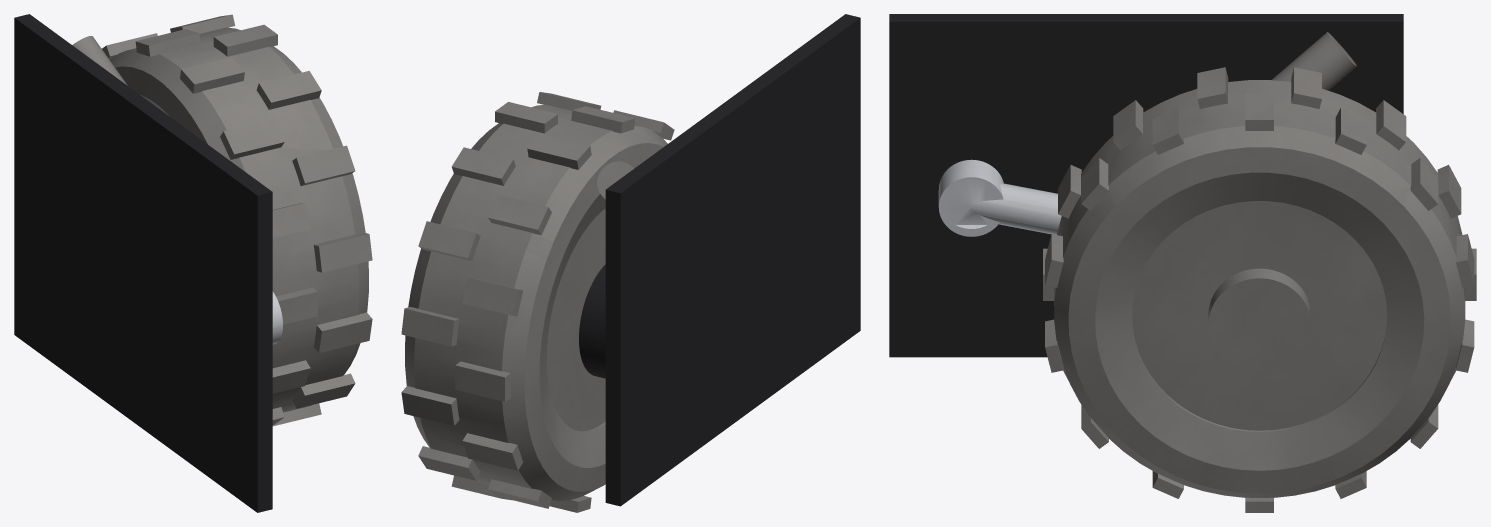
Rendered from rover04_wheel_l.glb.
3 views of the same model, side by side, from view 1: azimuth 30°, elevation 25°; view 2: azimuth 150°, elevation 25°; view 3: azimuth 270°, elevation 25° (orthographic). The views are drawn at different scales.
Parts seen in each view (by area): view 1: mount_plate, wheel, damper, swing_arm; view 2: mount_plate, wheel, hub_motor, damper; view 3: wheel, mount_plate, swing_arm, damper.
Boxes of the visible parts, x1,y1,x2,y2 form: mount_plate: [14, 14, 272, 512]; wheel: [102, 14, 372, 426]; damper: [72, 36, 127, 85]; swing_arm: [272, 291, 282, 344]; mount_plate: [605, 14, 860, 506]; wheel: [401, 92, 674, 512]; hub_motor: [579, 264, 605, 378]; damper: [597, 161, 633, 199]; wheel: [1043, 67, 1476, 512]; mount_plate: [889, 14, 1403, 357]; swing_arm: [938, 159, 1061, 236]; damper: [1271, 32, 1356, 90].
Size of the model in its own units: 0.7305 by 1.29 by 1.71.
3 materials, 2 textured.
